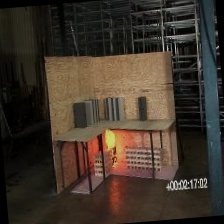fire: (99, 125, 124, 162)
